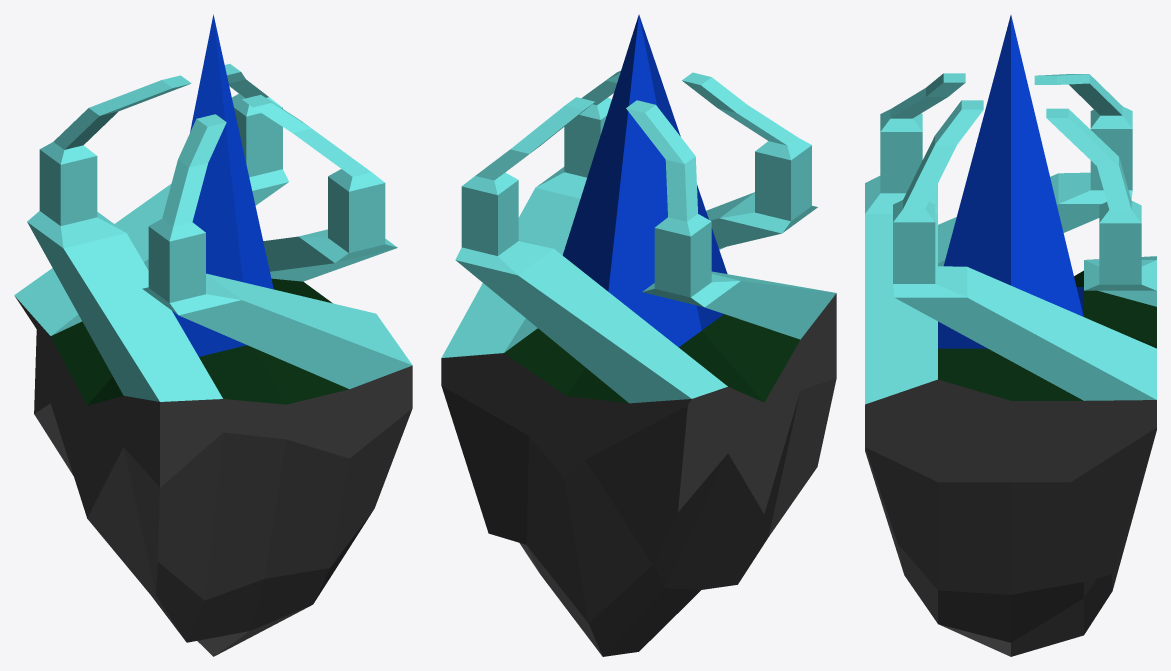
The model's file is EnergyShop.glb.
The picture shows the model from 3 angles, left to right: view 1: azimuth 30°, elevation 25°; view 2: azimuth 150°, elevation 25°; view 3: azimuth 270°, elevation 25°; orthographic projection.
Visible parts, largest first — view 1: EnergyShop; view 2: EnergyShop; view 3: EnergyShop.
Boxes of the visible parts, x1,y1,x2,y2 form: EnergyShop: [14, 14, 412, 656]; EnergyShop: [441, 14, 836, 656]; EnergyShop: [865, 15, 1156, 656].
Size of the model in its own units: 2 by 4.86 by 2.
